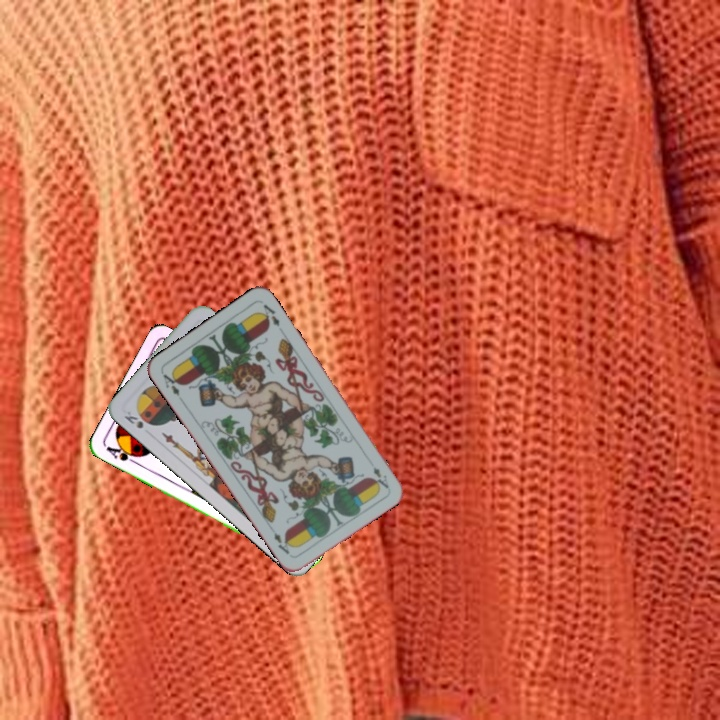EA: (159, 369, 183, 398), (369, 463, 391, 491)
SA: (102, 441, 143, 467)
SK: (120, 411, 146, 431)
